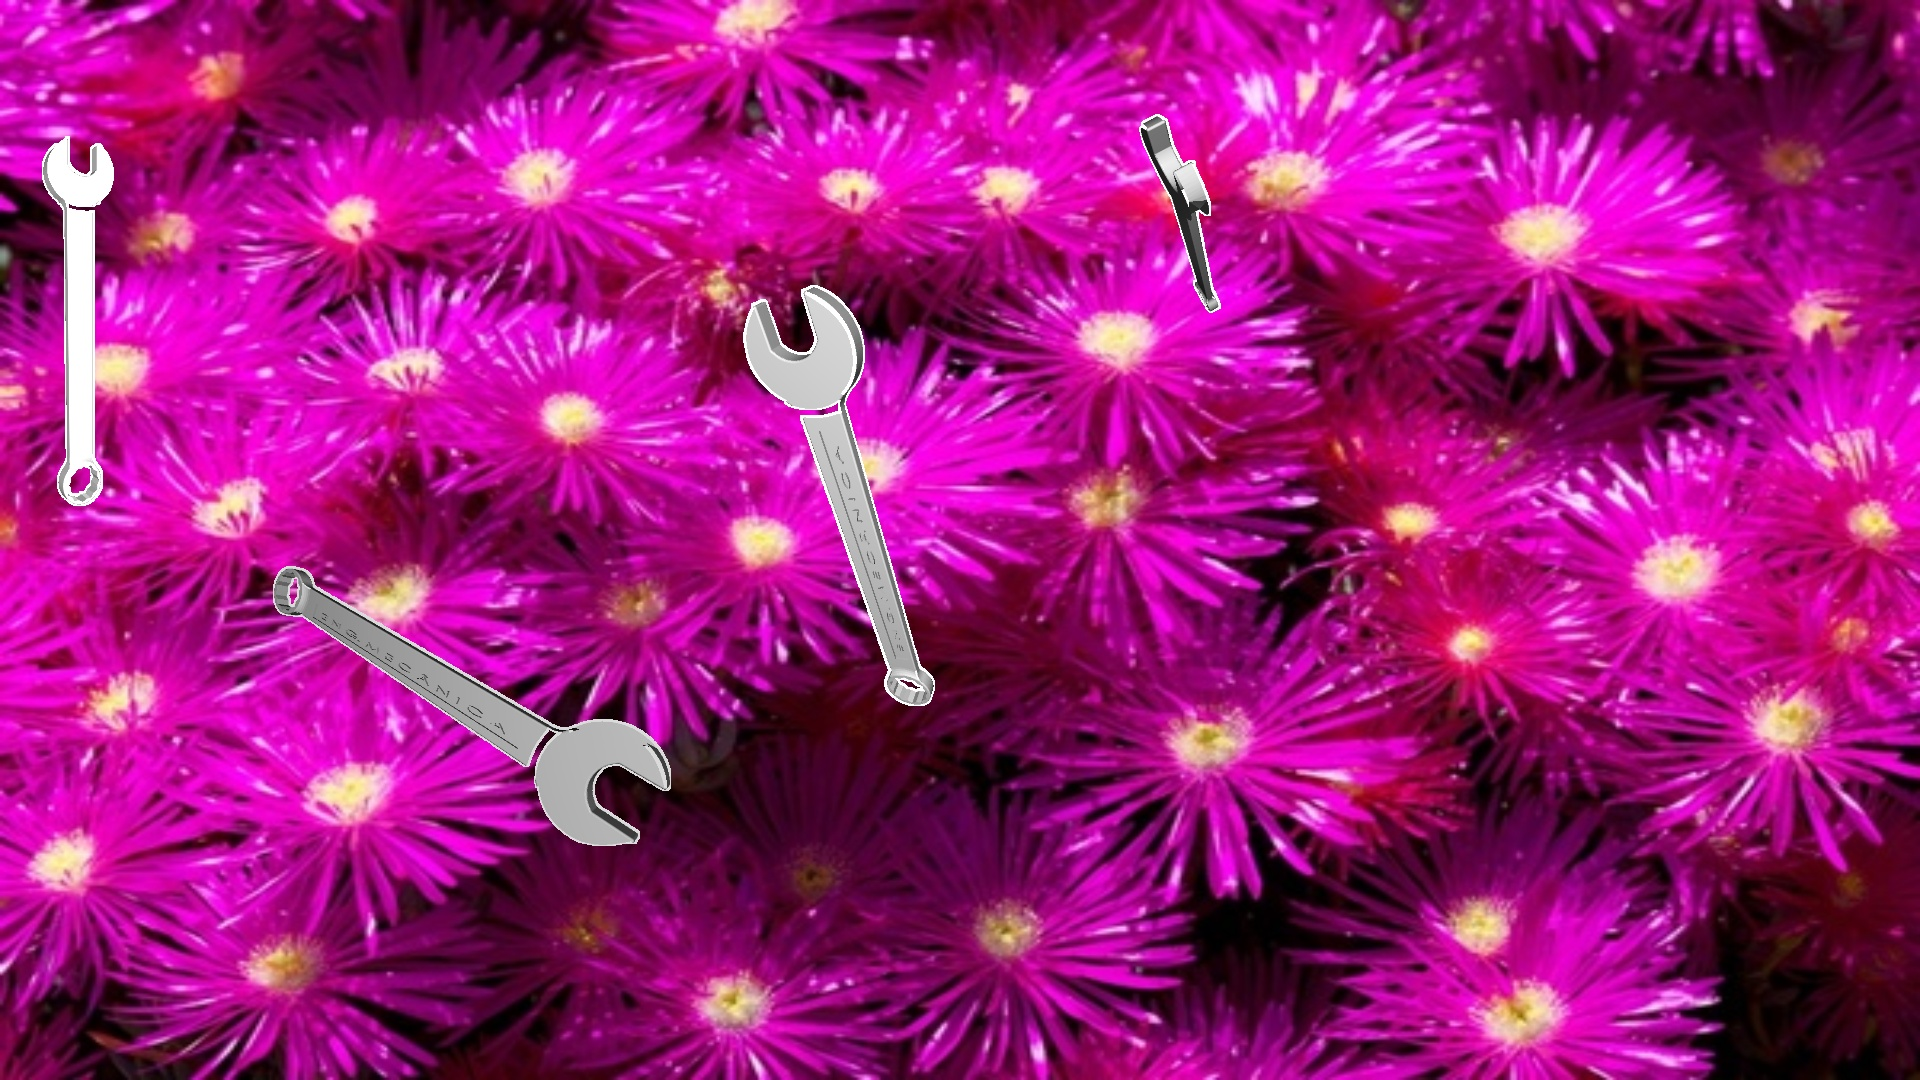Mixed Key: (1575, 352, 1919, 832), (273, 566, 670, 845), (742, 285, 934, 705), (42, 136, 113, 505), (1139, 113, 1220, 313), (1179, 520, 1200, 1011)
